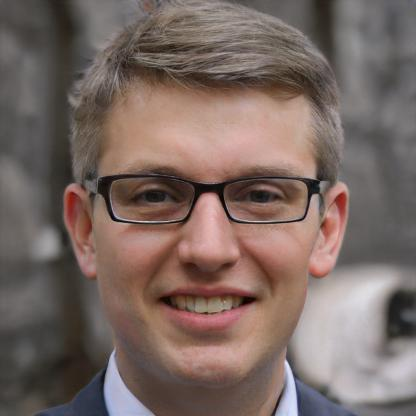glasses: (90, 166, 317, 230)
